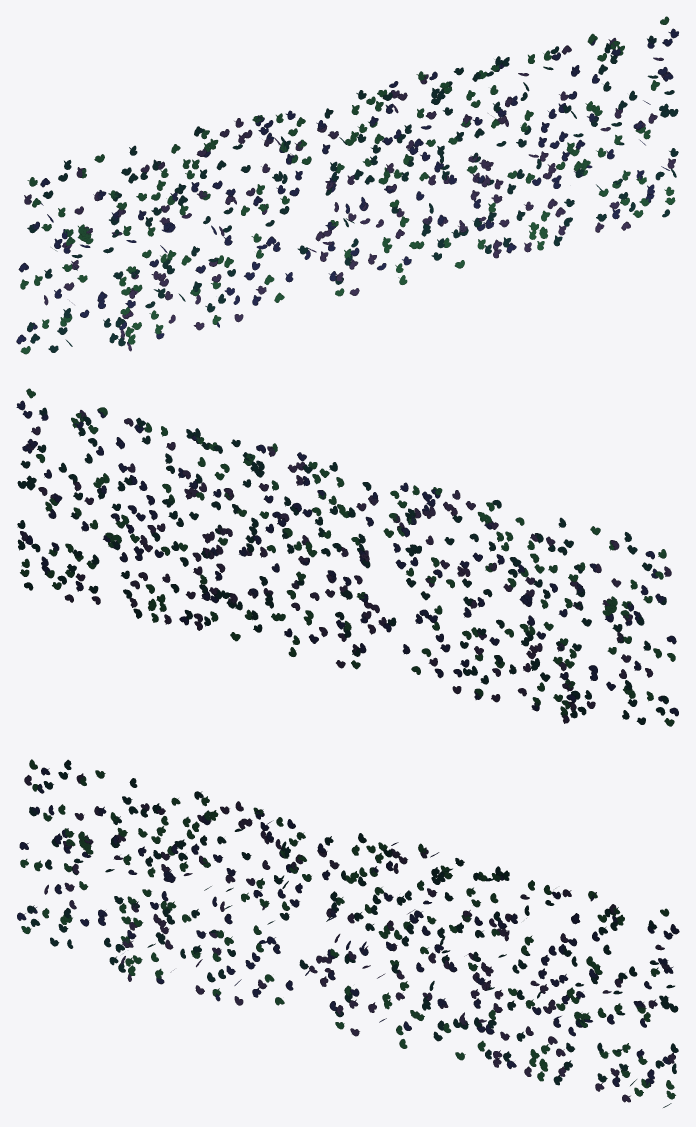
File: Ground_Bush_3.5.fbx
3 views of the same model, one above another, from view 1: azimuth 30°, elevation 25°; view 2: azimuth 150°, elevation 25°; view 3: azimuth 330°, elevation 25° (orthographic).
Parts seen in each view (by area): view 1: Ground_Bush_3.5_0; view 2: Ground_Bush_3.5_0; view 3: Ground_Bush_3.5_0.
Boxes of the visible parts, bbox=[...] form: Ground_Bush_3.5_0: bbox=[16, 16, 678, 354]; Ground_Bush_3.5_0: bbox=[16, 388, 678, 726]; Ground_Bush_3.5_0: bbox=[17, 759, 679, 1107].
Bounding box in the file's own units: 24.39 × 0.3675 × 7.48.
